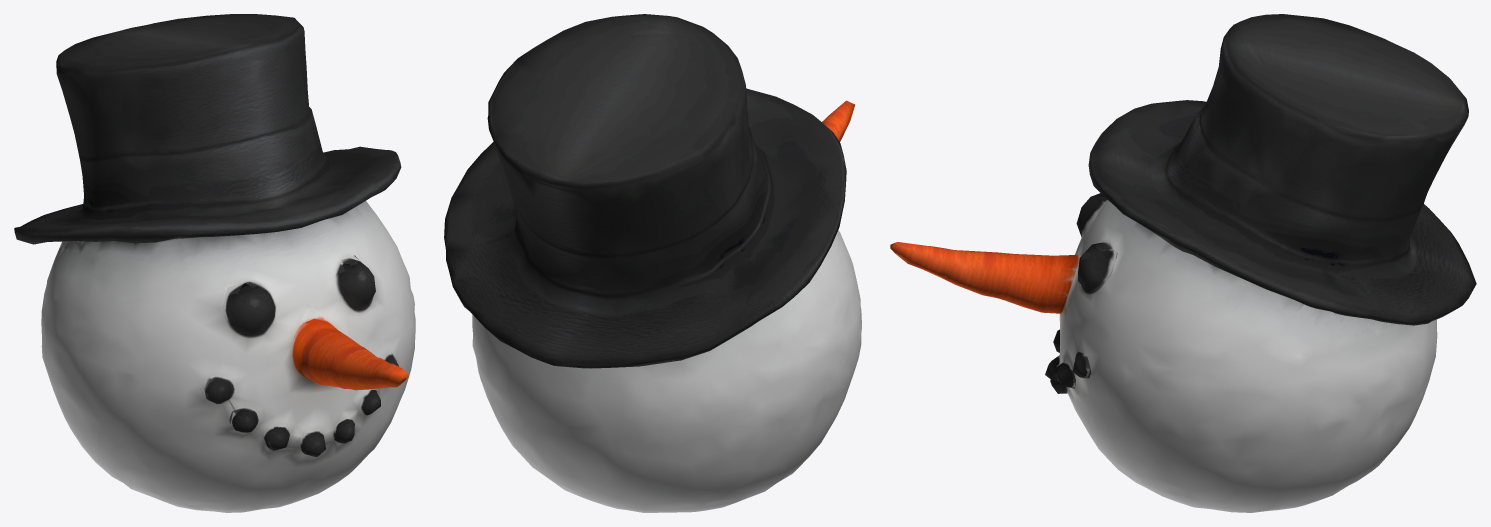
File: Meshy_AI_Snowman_Head_Christ_0301074256_texture.fbx
The picture shows the model from 3 angles, left to right: view 1: azimuth 30°, elevation 25°; view 2: azimuth 150°, elevation 25°; view 3: azimuth 270°, elevation 25°; orthographic projection. The views are drawn at different scales.
Parts seen in each view (by area): view 1: Mesh_0; view 2: Mesh_0; view 3: Mesh_0.
Part boxes in pixels (<box>): Mesh_0: <box>14,14,415,512</box>; Mesh_0: <box>444,14,861,512</box>; Mesh_0: <box>890,14,1476,512</box>.
Bounding box in the file's own units: 129 × 162 × 192.
1 material, 1 textured.
